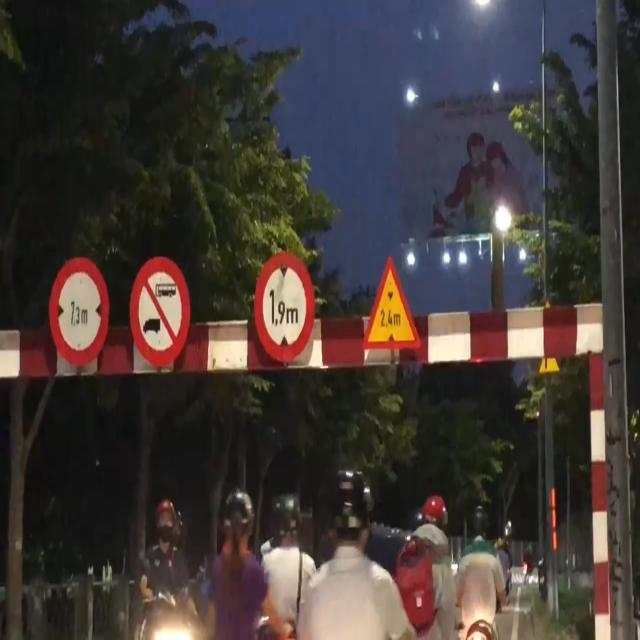Bien bao cam xe oto khach va xe oto tai: (127, 248, 192, 368)
Bien bao chieu cao tinh khong thuc te: (362, 248, 422, 359)
Bien bao han che chieu cao: (253, 241, 322, 367)
